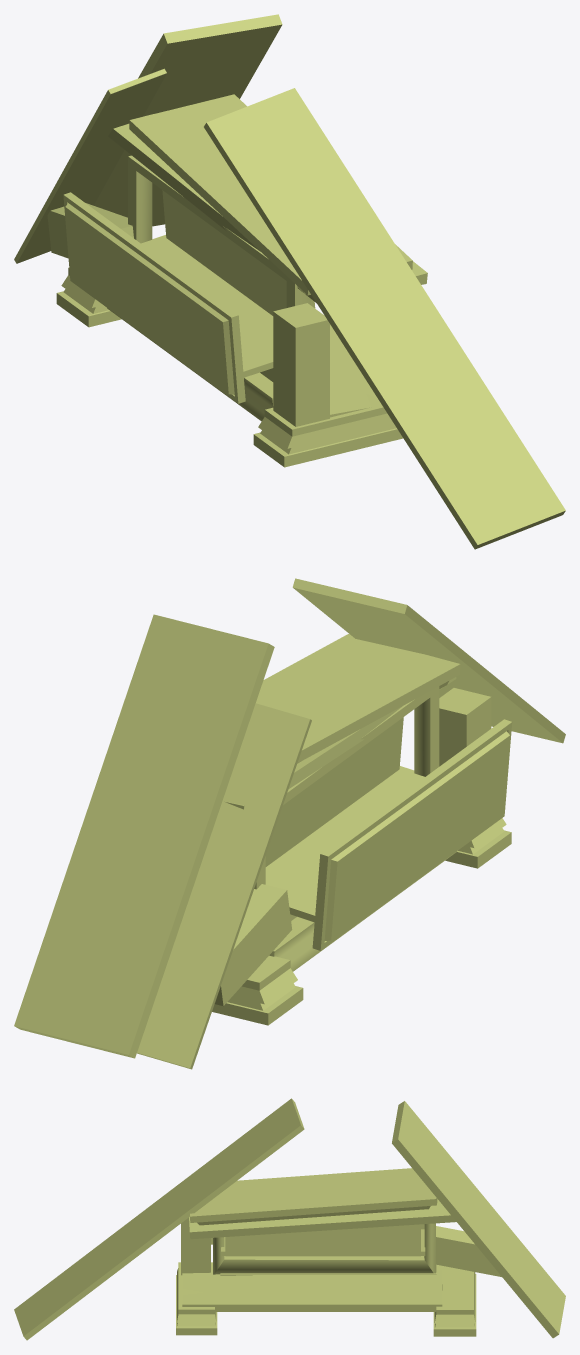
The model's file is Barrel_Break_03D_Lod0.fbx.
3 views of the same model, one above another, from view 1: azimuth 30°, elevation 25°; view 2: azimuth 150°, elevation 25°; view 3: azimuth 270°, elevation 25° (orthographic). The views are drawn at different scales.
Parts seen in each view (by area): view 1: Barrel_Break_03D_Lod0; view 2: Barrel_Break_03D_Lod0; view 3: Barrel_Break_03D_Lod0.
Boxes of the visible parts, x1,y1,x2,y2 form: Barrel_Break_03D_Lod0: [14, 14, 565, 549]; Barrel_Break_03D_Lod0: [14, 578, 565, 1069]; Barrel_Break_03D_Lod0: [14, 1098, 565, 1340].
Bounding box in the file's own units: 79.09 × 118 × 287.
